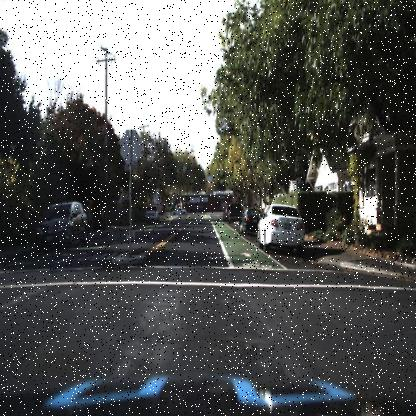car: (34, 198, 90, 248), (257, 202, 304, 252), (240, 204, 265, 237), (144, 203, 162, 225), (228, 197, 244, 221), (168, 204, 188, 217)
